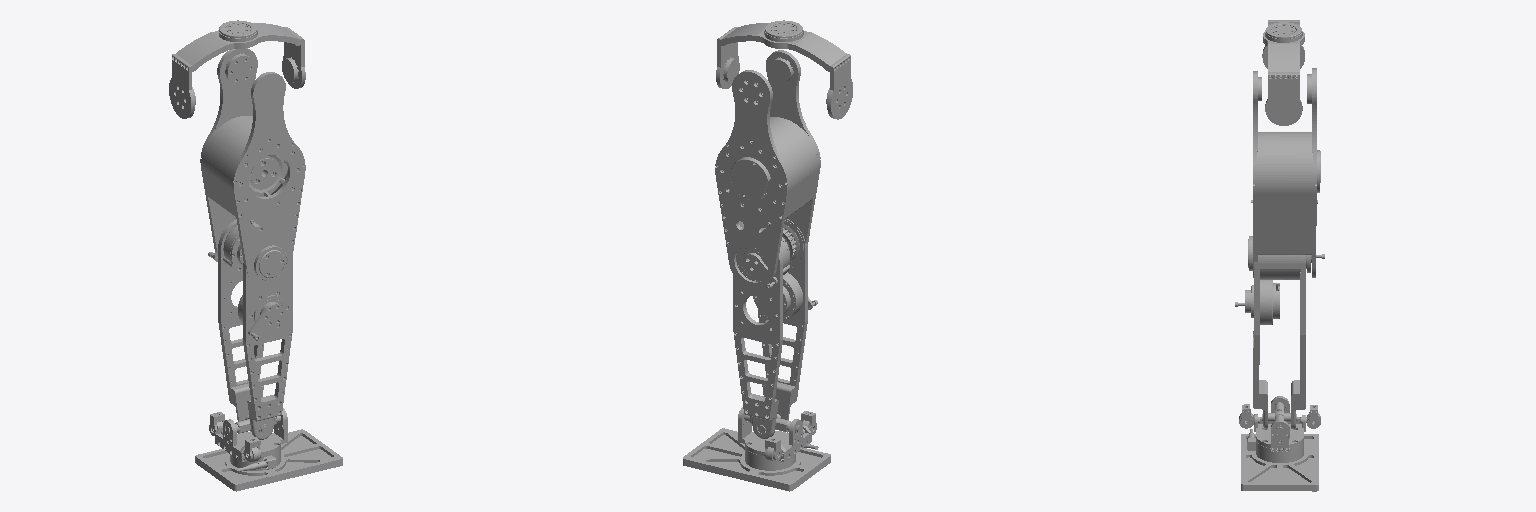
robot.urdf — total_robot_nl:
<?xml version="1.0" ?>
<robot name="total_robot_nl" xmlns:xacro="http://www.ros.org/wiki/xacro">
<!-- 
<link name = "base_link">
  <inertial>
    <origin xyz="0 0 0" rpy="0 0 0"/>
    <mass value="0"/>
    <inertia ixx="0" iyy="0" izz="0" ixy="0" iyz="0" ixz="0"/>
  </inertial>
  <visual>
    <origin xyz="0 0 0" rpy="0 0 0"/>
    <geometry>
      <box size="0.01 0.01 0.01"/>
    </geometry>
  </visual>
</link> -->
<link name="world"/>
  
<link name="base_link">
  <inertial>
    <origin xyz="-0.0032551439887210324 -2.0000001658970756e-07 -0.04529738784398371" rpy="0 0 0"/>
    <mass value="0.6322493948525033"/>
    <inertia ixx="0.001017" iyy="0.004505" izz="0.003813" ixy="0.0" iyz="0.0" ixz="-0.000121"/>
  </inertial>
  <visual>
    <origin xyz="0.015291 0.105 -0.007699" rpy="0 0 0"/>
    <geometry>
      <mesh filename="package://ik_test/meshes/right_yaw_1_1_1.stl" scale="0.001 0.001 0.001"/>
    </geometry>
    <material name="silver">
      <color rgba="0.700 0.700 0.700 1.000"/>
    </material>
  </visual>
</link>

<link name="right_hip_rp_1_1_1">
  <inertial>
    <origin xyz="-0.000275128 0.0019294190715901938 9.221403702634745e-05" rpy="0 0 0"/>
    <!-- <origin xyz="0.09685174149735151 -0.0018821709981925172 9.35206557016871e-05" rpy="0 0 0"/> -->
    <mass value="3.5816786688919353"/>
    <inertia ixx="0.00491" iyy="0.013424" izz="0.012876" ixy="0.00022" iyz="-2.5e-05" ixz="-3.9e-05"/>
  </inertial>
  <visual>
    <!-- <origin xyz="0.114041 0.105 0.088357" rpy="0 0 0"/> -->
    <origin xyz="0.015291 0.105 0.088357" rpy="0 0 0"/>
    <geometry>
      <mesh filename="package://ik_test/meshes/right_hip_rp_1_1_1.stl" scale="0.001 0.001 0.001"/>
    </geometry>
    <material name="silver">
      <color rgba="0.700 0.700 0.700 1.000"/>
    </material>
  </visual>
</link>

<link name="right_upper_link_1_1_1">
  <inertial>
    <origin xyz="0.0005368519739045955 -0.013754235 -0.15022534580925995" rpy="0 0 0"/>
    <!-- <origin xyz="0.0005283462268753456 -0.035793629479377365 -0.15017576047478398" rpy="0 0 0"/> -->
    <mass value="3.224248608127142"/>
    <inertia ixx="0.017946" iyy="0.016983" izz="0.007545" ixy="2.3e-05" iyz="-0.000337" ixz="0.00025"/>
  </inertial>
  <visual>
    <!-- <origin xyz="-0.012959 0.066 0.088432" rpy="0 0 0"/> -->
    <origin xyz="-0.012959 0.11025 0.088358" rpy="0 0 0"/>
    <geometry>
      <mesh filename="package://ik_test/meshes/right_upper_link_1_1_1.stl" scale="0.001 0.001 0.001"/>
    </geometry>
    <material name="silver">
      <color rgba="0.700 0.700 0.700 1.000"/>
    </material>
  </visual>
</link>

<link name="right_lower_link_1_1_1">
  <inertial>
    <origin xyz="4.6165273849790855e-05 0.006328049 -0.07736569907214441" rpy="0 0 0"/>
    <!-- <origin xyz="4.616866161294246e-05 -0.054724321366379315 -0.07726279002046826" rpy="0 0 0"/> -->
    <mass value="2.1737761686430033"/>
    <inertia ixx="0.020231" iyy="0.0187" izz="0.003552" ixy="3e-06" iyz="-0.000588" ixz="-3.7e-05"/>
  </inertial>
  <visual>
    <!-- <origin xyz="-0.012959 0.05908 0.388446" rpy="0 0 0"/> -->
    <origin xyz="-0.012959 0.106762 0.388359" rpy="0 0 0"/>
    <geometry>
      <mesh filename="package://ik_test/meshes/right_lower_link_1_1_1.stl" scale="0.001 0.001 0.001"/>
    </geometry>
    <material name="silver">
      <color rgba="0.700 0.700 0.700 1.000"/>
    </material>
  </visual>
</link>

<link name="right_ankle_1_1_1">
  <inertial>
    <origin xyz="-5.379963106347946e-07 -0.000000102 2.7555327962835996e-05" rpy="0 0 0"/>
    <!-- <origin xyz="1.044337313665239e-06 -0.0257503951230489 7.565631622663549e-05" rpy="0 0 0"/> -->
    <mass value="0.09508659018482592"/>
    <inertia ixx="1.3e-05" iyy="6.1e-05" izz="6.9e-05" ixy="0.0" iyz="0.0" ixz="0.0"/>
  </inertial>
  <visual>
    <!-- <origin xyz="-0.012959 0.08566 0.688395" rpy="0 0 0"/> -->
    <origin xyz="-0.012959 0.110275 0.688358" rpy="0 0 0"/>
    <geometry>
      <mesh filename="package://ik_test/meshes/right_ankle_1_1_1.stl" scale="0.001 0.001 0.001"/>
    </geometry>
    <material name="silver">
      <color rgba="0.700 0.700 0.700 1.000"/>
    </material>
  </visual>
</link>

<link name="right_foot_1_1_1">
  <inertial>
    <origin xyz="0.005144916 -0.0011185339036274 -0.05368766786446966" rpy="0 0 0"/>
    <mass value="0.7656211376144055"/>
    <inertia ixx="0.001068" iyy="0.001832" izz="0.002289" ixy="-1.3e-05" iyz="4e-06" ixz="0.000216"/>
  </inertial>
  <visual>
    <!-- <origin xyz="0.036041 0.11141 0.688346" rpy="0 0 0"/> -->
    <origin xyz="-0.012959 0.110275 0.688357" rpy="0 0 0"/>
    <geometry>
      <mesh filename="package://ik_test/meshes/right_foot_1_1_1.stl" scale="0.001 0.001 0.001"/>
    </geometry>
    <material name="silver">
      <color rgba="0.700 0.700 0.700 1.000"/>
    </material>
  </visual>
</link>




<!-- <joint name="base_joint" type="prismatic">
  <origin xyz="0 0 0" rpy="0 0 0"/>
  <parent link="base_link"/>
  <child link="right_yaw_1_1_1"/>
  <axis xyz="0.0 0.0 1.0"/>
  <limit upper="0" lower="0" effort="100" velocity="1000"/>
</joint> -->

<joint name="base_joint" type="revolute">
  <parent link="world"/>
  <child link="base_link"/>
  <origin xyz="0 0 0" rpy="0 0 0"/>
  <axis xyz="0.0 0.0 1.0"/>
  <limit upper="1.570796" lower="-1.570796" effort="40" velocity="4.188790204786399"/>
</joint>

<joint name="hip_roll_right" type="revolute">
  <!-- <origin xyz="-0.09875 0.0 -0.096056" rpy="0 0 0"/> -->
  <origin xyz="0.0 0.0 -0.096056" rpy="0 0 0"/>
  <parent link="base_link"/>
  <child link="right_hip_rp_1_1_1"/>
  <axis xyz="-1.0 -0.0 0.0"/>
  <limit upper="1.570796" lower="-0.523599" effort="40" velocity="4.188790204786399"/>
</joint>

<joint name="hip_pitch_right" type="revolute">
  <!-- <origin xyz="0.127 0.039 -7.5e-05" rpy="0 0 0"/> -->
  <origin xyz="0.02825 0.00175 0" rpy="0 0 0"/>
  <parent link="right_hip_rp_1_1_1"/>
  <child link="right_upper_link_1_1_1"/>
  <axis xyz="0.0 -1.0 0"/>
  <limit upper="1.745329" lower="-0.471239" effort="65" velocity="5.236"/>
</joint>

<joint name="knee_right" type="revolute">
  <!-- <origin xyz="0.0 0.00692 -0.300014" rpy="0 0 0"/> -->
  <origin xyz="0.0 -0.003988 -0.3" rpy="0 0 0"/>
  <parent link="right_upper_link_1_1_1"/>
  <child link="right_lower_link_1_1_1"/>
  <axis xyz="0.0 1.0 0"/>
  <limit upper="2.094395" lower="0.0" effort="65" velocity="5.236"/>
</joint>

<joint name="ankle_pitch_right" type="revolute">
  <!-- <origin xyz="0.0 -0.02658 -0.299949" rpy="0 0 0"/> -->
  <!-- <origin xyz="0.0 0.000263 -0.3" rpy="0 0 0"/> -->
  <origin xyz="0.0 -0.003988 -0.3" rpy="0 0 0"/>
  <parent link="right_lower_link_1_1_1"/>
  <child link="right_ankle_1_1_1"/>
  <axis xyz="-0.0 1.0 0"/>
  <limit upper="1.047197551" lower="-0.785398" effort="8" velocity="41.88790204786399"/>
</joint>

<joint name="ankle_roll_right" type="revolute">
  <!-- <origin xyz="-0.049 -0.02575 4.9e-05" rpy="0 0 0"/> -->
  <origin xyz="0.0 0.00125 0.0" rpy="0 0 0"/>
  <parent link="right_ankle_1_1_1"/>
  <child link="right_foot_1_1_1"/>
  <axis xyz="1.0 0.0 0.0"/>
  <limit upper="0.785398" lower="-0.785398" effort="8" velocity="41.88790204786399"/>
</joint>


<!-- <joint name="hip_roll_right" type="revolute">
  <origin xyz="-0.09875 0.0 -0.096056" rpy="0 0 0"/>
  <parent link="base_link"/>
  <child link="right_hip_rp_1_1_1"/>
  <axis xyz="1.0 0.0 -0.0"/>
  <limit upper="1.570796" lower="-0.523599" effort="40" velocity="4.188790204786399"/>
</joint>

<joint name="hip_pitch_right" type="revolute">
  <origin xyz="0.127 -0.039 -1e-06" rpy="0 0 0"/>
  <parent link="right_hip_rp_1_1_1"/>
  <child link="right_upper_link_1_1_1"/>
  <axis xyz="0.0 -1.0 -4.1e-05"/>
  <limit upper="1.745329" lower="-0.471239" effort="65" velocity="5.236"/>
</joint>

<joint name="knee_right" type="revolute">
  <origin xyz="0.0 -0.007488 -0.300001" rpy="0 0 0"/>
  <parent link="right_upper_link_1_1_1"/>
  <child link="right_lower_link_1_1_1"/>
  <axis xyz="-0.0 1.0 4.1e-05"/>
  <limit upper="2.094395" lower="0.0" effort="65" velocity="5.236"/>
</joint>

<joint name="ankle_pitch_right" type="revolute">
  <origin xyz="0.0 0.026013 -0.299999" rpy="0 0 0"/>
  <parent link="right_lower_link_1_1_1"/>
  <child link="right_ankle_1_1_1"/>
  <axis xyz="-0.0 -1.0 4.1e-05"/>
  <limit upper="1.047197551" lower="-0.785398" effort="8" velocity="41.88790204786399"/>
</joint>

<joint name="ankle_roll_right" type="revolute">
  <origin xyz="-0.049 0.02575 1e-06" rpy="0 0 0"/>
  <parent link="right_ankle_1_1_1"/>
  <child link="right_foot_1_1_1"/>
  <axis xyz="1.0 0.0 0.0"/>
  <limit upper="0.785398" lower="-0.785398" effort="8" velocity="41.88790204786399"/>
</joint> -->

</robot>

--- What the picture shows (computed from the rendered views, not written in the file) ---
The picture shows the robot from 3 angles, left to right: view 1: azimuth 30°, elevation 25°; view 2: azimuth 150°, elevation 25°; view 3: azimuth 270°, elevation 25°; orthographic projection.
Robot: total_robot_nl — 7 links, 6 joints (6 revolute); root link world; default pose: every joint at zero.
Visible links, largest first — view 1: right_upper_link_1_1_1, right_lower_link_1_1_1, right_foot_1_1_1, base_link; view 2: right_upper_link_1_1_1, right_lower_link_1_1_1, right_foot_1_1_1, base_link; view 3: right_upper_link_1_1_1, right_foot_1_1_1, right_lower_link_1_1_1, base_link.
Link boxes in pixels (bbox=[...]): right_upper_link_1_1_1: bbox=[200, 48, 305, 286]; right_lower_link_1_1_1: bbox=[208, 219, 292, 439]; right_foot_1_1_1: bbox=[195, 408, 342, 491]; base_link: bbox=[169, 20, 305, 118]; right_upper_link_1_1_1: bbox=[715, 50, 820, 288]; right_lower_link_1_1_1: bbox=[733, 219, 817, 438]; right_foot_1_1_1: bbox=[683, 407, 830, 491]; base_link: bbox=[716, 20, 852, 119]; right_upper_link_1_1_1: bbox=[1251, 68, 1320, 277]; right_foot_1_1_1: bbox=[1239, 396, 1320, 491]; right_lower_link_1_1_1: bbox=[1235, 236, 1324, 428]; base_link: bbox=[1262, 20, 1304, 125].
Bounding box of the posed robot: 0.2595 × 0.1501 × 0.7734 m (x, y, z).
5 mesh visuals loaded from 6 distinct referenced files (5 binary STL); not drawn: 1 (reference not matched to a file when rendering).
